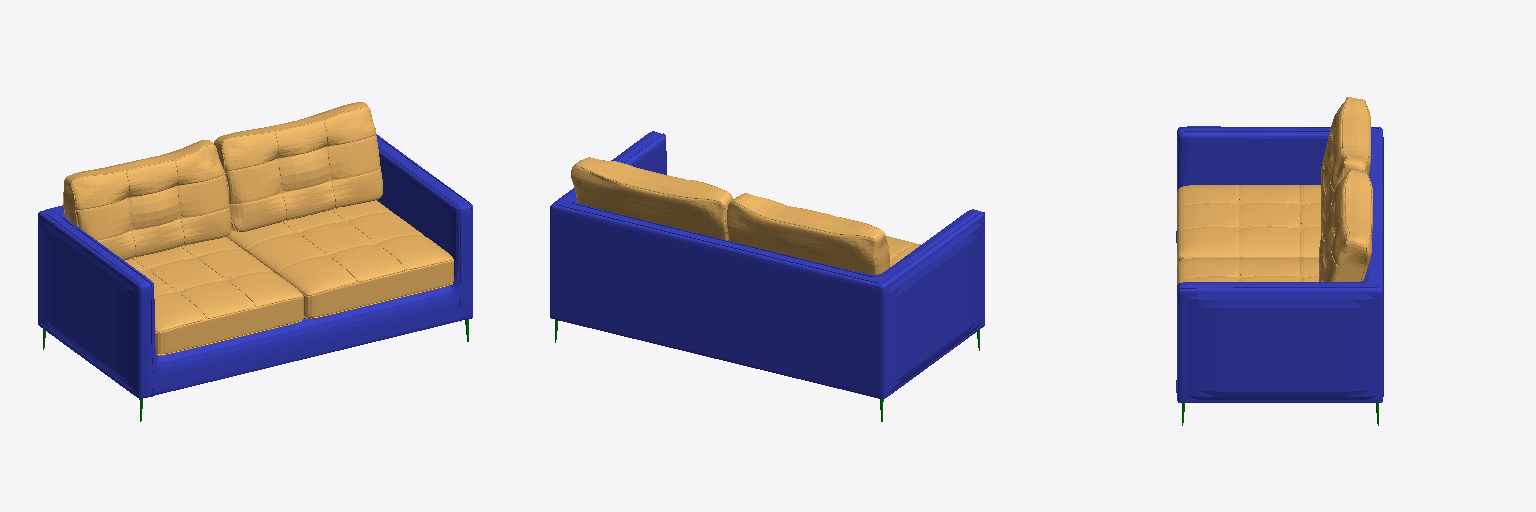
The model's file is bed17.obj.
3 views of the same model, side by side, from view 1: azimuth 30°, elevation 25°; view 2: azimuth 150°, elevation 25°; view 3: azimuth 270°, elevation 25° (orthographic).
Parts seen in each view (by area): view 1: Object.5, Object.6, Object.8, Object.9, Object.7; view 2: Object.5, Object.9, Object.8, Object.7; view 3: Object.5, Object.7, Object.8, Object.9, Object.6.
Part boxes in pixels (left/top/right/bottom): Object.5: left=38, top=134, right=472, bottom=398; Object.6: left=226, top=200, right=453, bottom=318; Object.8: left=214, top=102, right=382, bottom=231; Object.9: left=63, top=140, right=231, bottom=260; Object.7: left=125, top=237, right=303, bottom=355; Object.5: left=550, top=131, right=984, bottom=398; Object.9: left=727, top=193, right=889, bottom=274; Object.8: left=571, top=157, right=732, bottom=240; Object.7: left=886, top=236, right=920, bottom=266; Object.5: left=1176, top=126, right=1383, bottom=402; Object.7: left=1177, top=185, right=1320, bottom=265; Object.8: left=1319, top=170, right=1372, bottom=281; Object.9: left=1321, top=97, right=1370, bottom=234; Object.6: left=1177, top=258, right=1318, bottom=284.
Bounding box in the file's own units: 63.94 × 32.28 × 33.61.